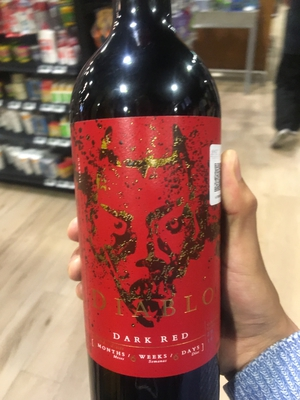diablo dark red: (70, 4, 242, 400)
